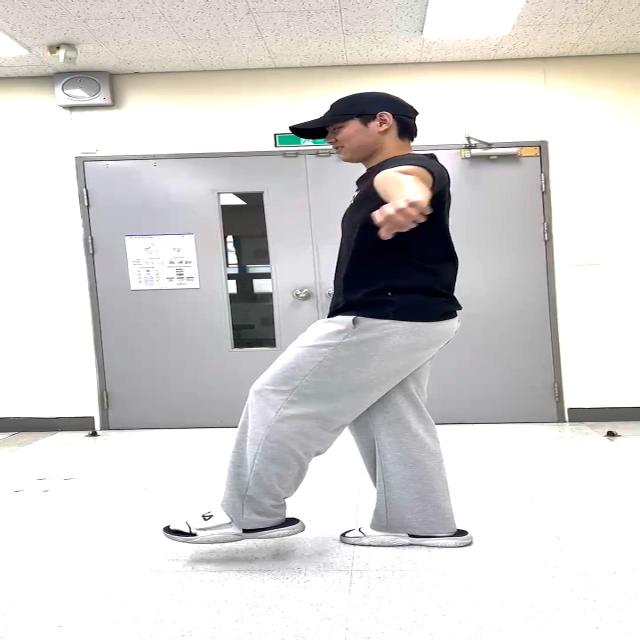leg: (170, 286, 374, 566)
